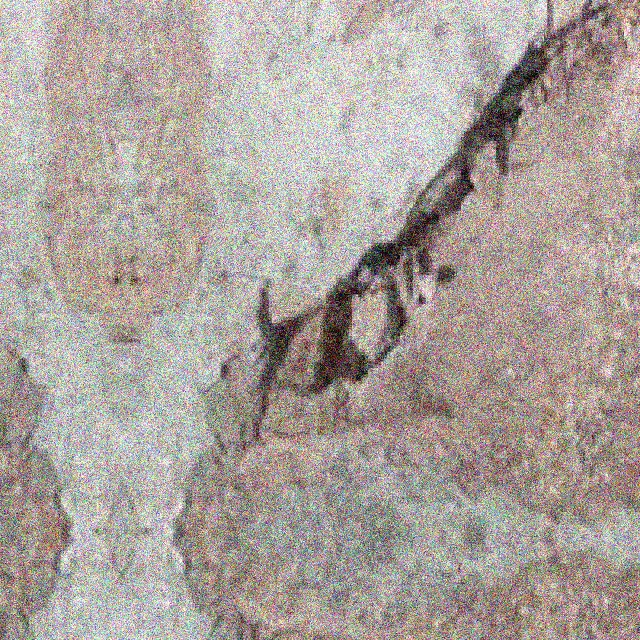SurfaceCrack: (214, 2, 640, 444)
